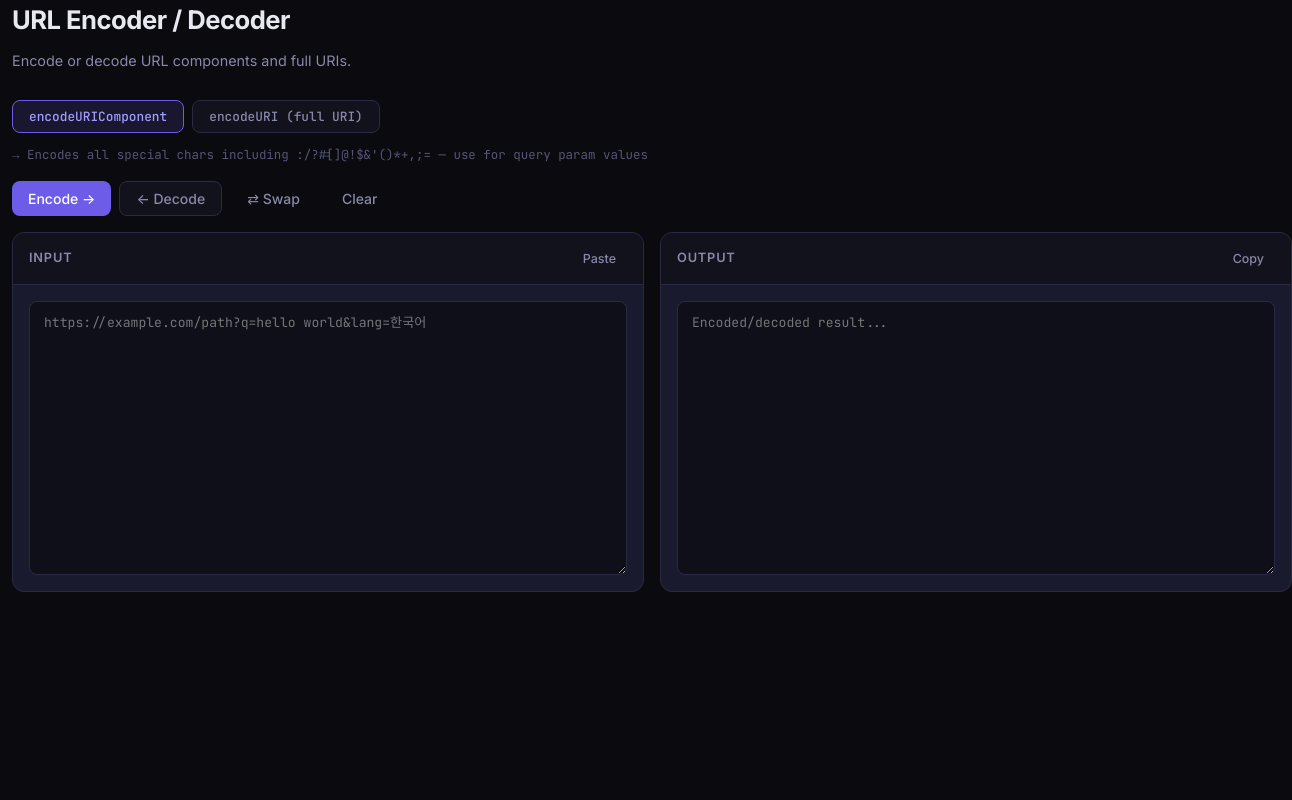
Test case: UrlEncoder › decodes URL-encoded string
In the text box with placeholder "https://example.com/path?q=hello world&lang=한국어": (328, 438) [29,301,627,575], type "hello%20world%26foo%3Dbar"
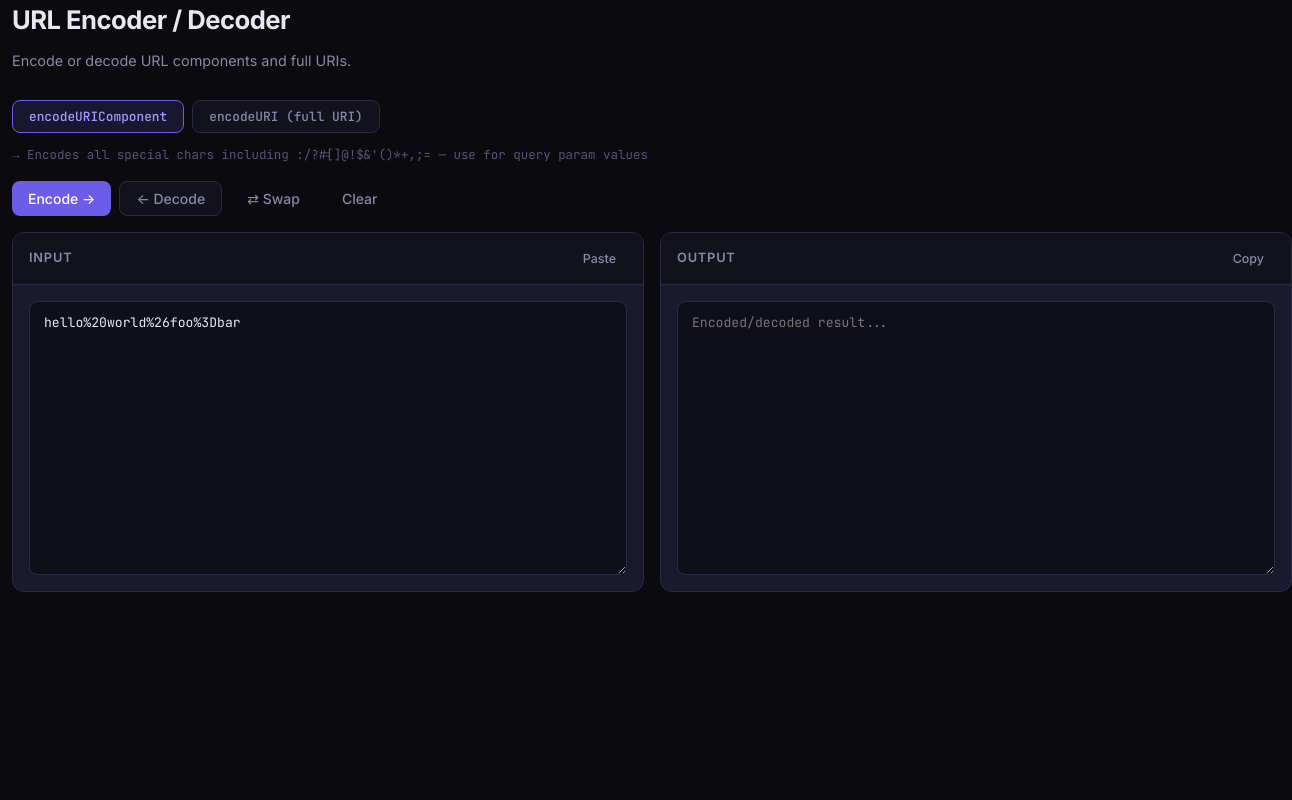
Click the button "← Decode": (171, 198) [119,181,222,216]
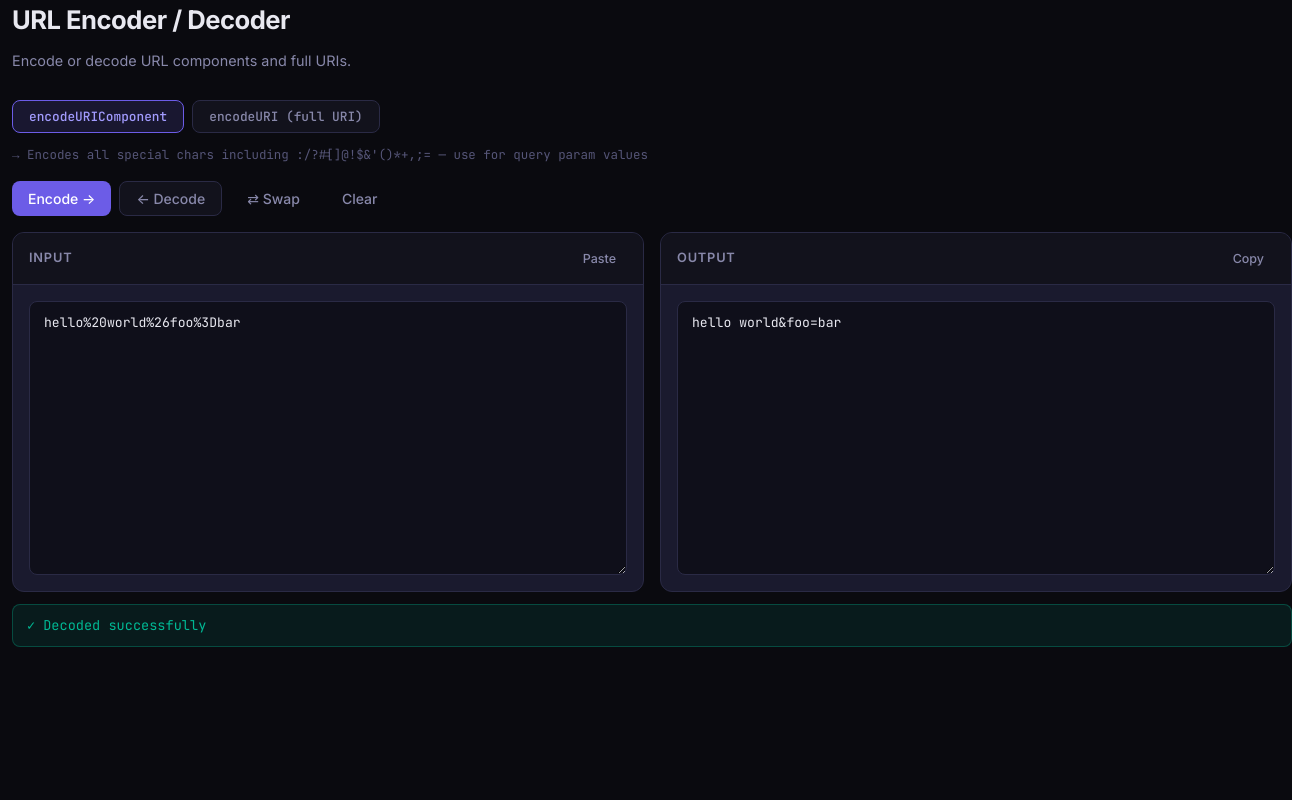
Result: the text box below "Output" holds "hello world&foo=bar" at [677,301,1275,575]
